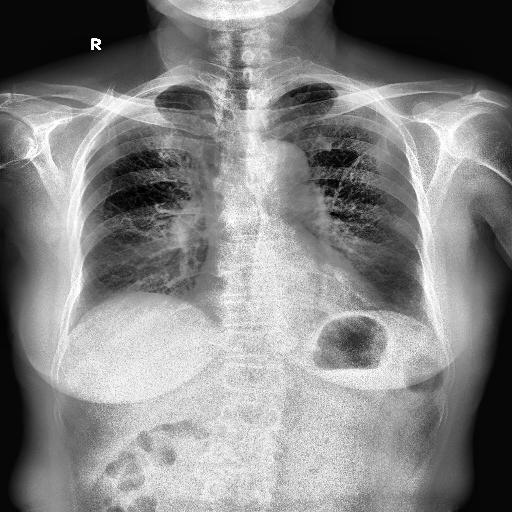0- Aortic enlargement: (247, 138, 310, 216), (264, 141, 313, 216), (255, 145, 307, 185)
3- Cardiomegaly: (192, 254, 394, 318)
